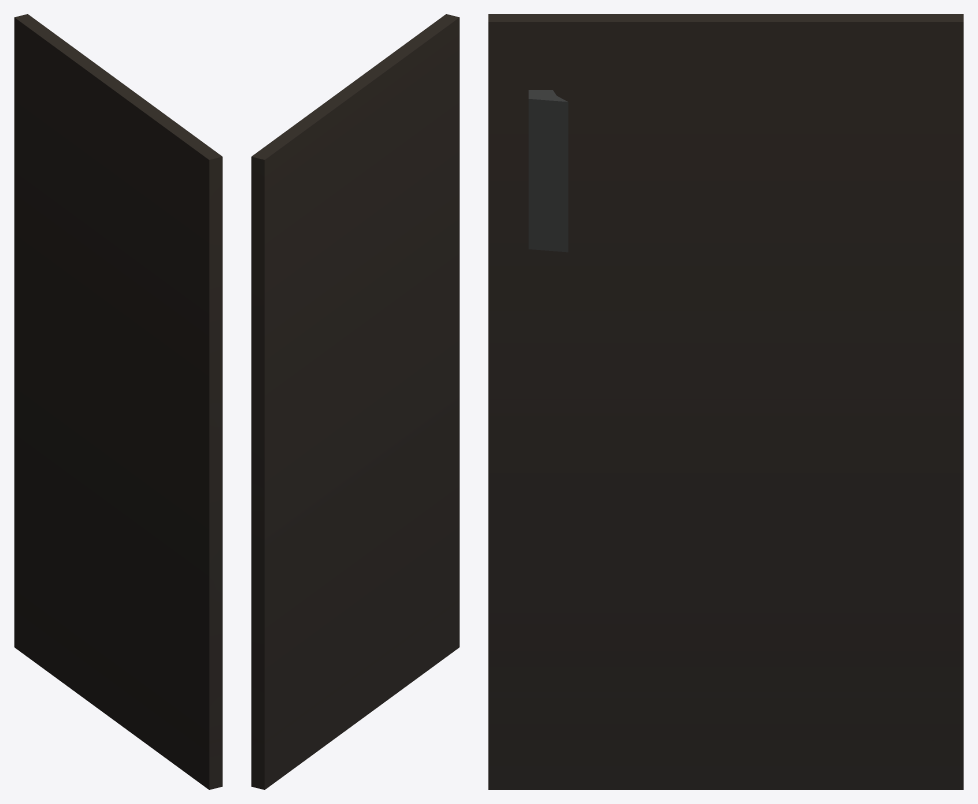
File: Door_Right_Small_Corner_Booth_Brown.fbx
3 views of the same model, side by side, from view 1: azimuth 30°, elevation 25°; view 2: azimuth 150°, elevation 25°; view 3: azimuth 270°, elevation 25° (orthographic). The views are drawn at different scales.
Visible parts, largest first — view 1: Door_Right_Small_Corner_Booth_Brown; view 2: Door_Right_Small_Corner_Booth_Brown; view 3: Door_Right_Small_Corner_Booth_Brown.
Part boxes in pixels (x1=…): Door_Right_Small_Corner_Booth_Brown: x1=14, y1=14, x2=222, y2=789; Door_Right_Small_Corner_Booth_Brown: x1=251, y1=14, x2=459, y2=789; Door_Right_Small_Corner_Booth_Brown: x1=488, y1=14, x2=963, y2=789.
Size of the model in its own units: 2.94 by 52.59 by 29.49.
